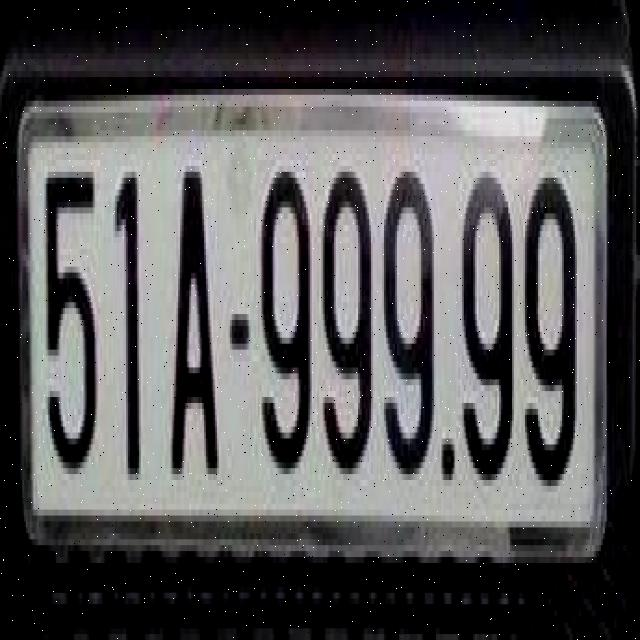1: (114, 160, 145, 493)
5: (40, 154, 100, 480)
9: (254, 142, 315, 488), (460, 160, 516, 505), (522, 157, 578, 489), (319, 157, 374, 489), (380, 157, 435, 488)
A: (163, 144, 223, 489)
